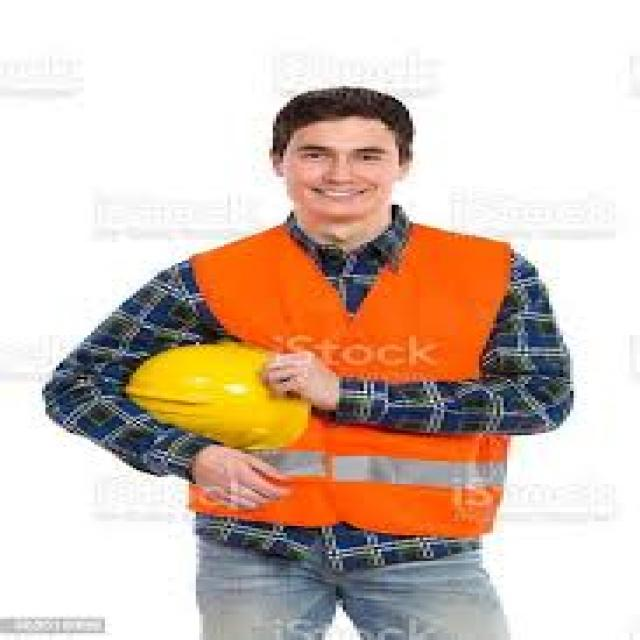Reflective-Jacket: (168, 218, 531, 544)
Safety-Helmet: (117, 319, 344, 462)
